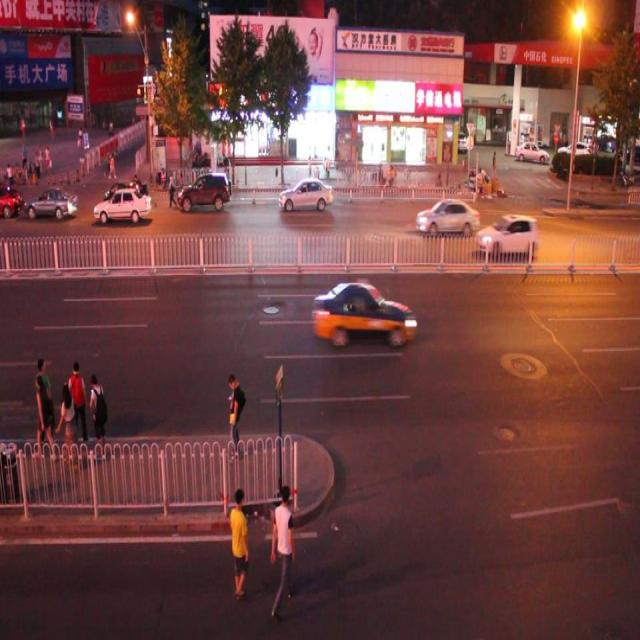car: (312, 278, 416, 348), (475, 212, 536, 257), (415, 195, 478, 236), (96, 188, 152, 222), (278, 177, 333, 210), (25, 186, 79, 218), (178, 173, 229, 206), (103, 180, 146, 208)
